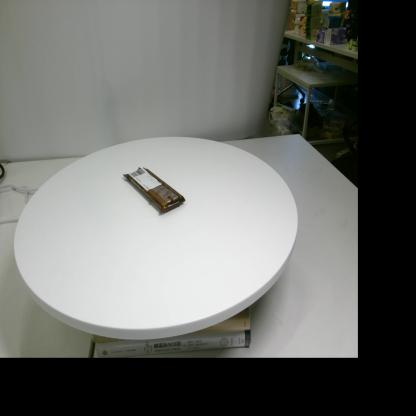Chocolate: (123, 167, 185, 214)
